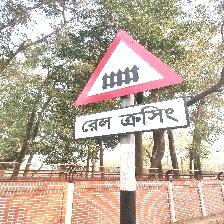Rail-crossing: (72, 29, 190, 141)
